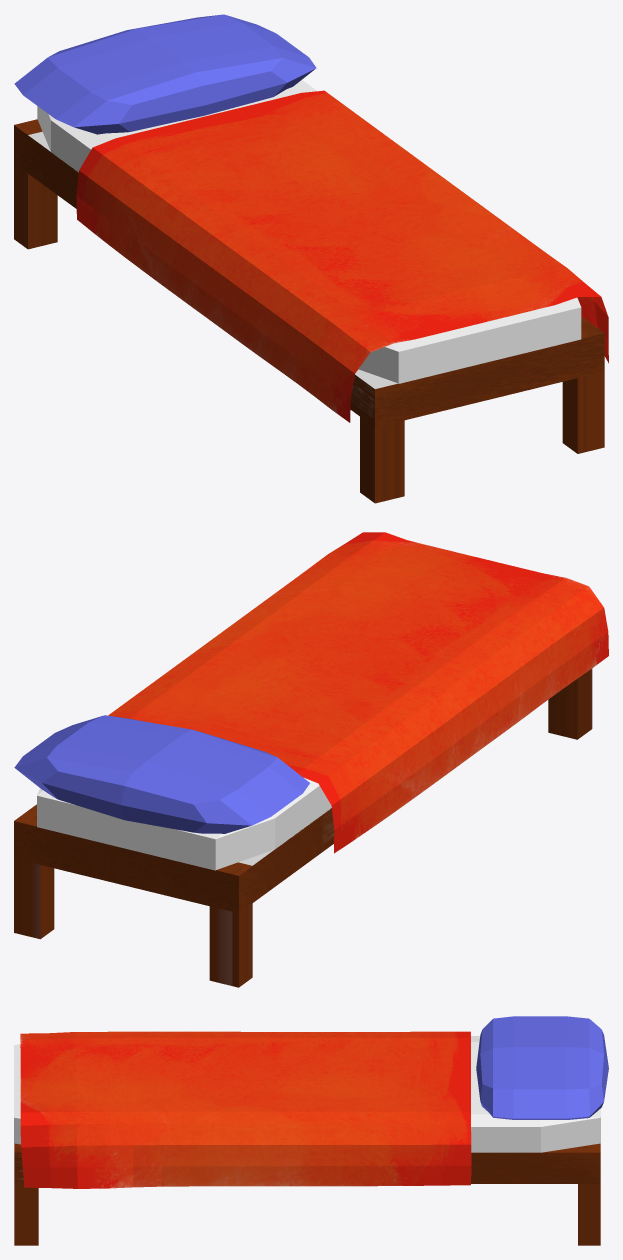
Rendered from VOODI.glb.
The picture shows the model from 3 angles, top to bottom: view 1: azimuth 30°, elevation 25°; view 2: azimuth 150°, elevation 25°; view 3: azimuth 270°, elevation 25°; orthographic projection. The views are drawn at different scales.
Parts seen in each view (by area): view 1: Cube.002; view 2: Cube.002; view 3: Cube.002.
Part boxes in pixels (<box>): Cube.002: <box>14,14,608,503</box>; Cube.002: <box>14,532,608,987</box>; Cube.002: <box>14,1016,608,1245</box>.
Size of the model in its own units: 2.45 by 1.57 by 5.52.
2 materials, 1 textured.
